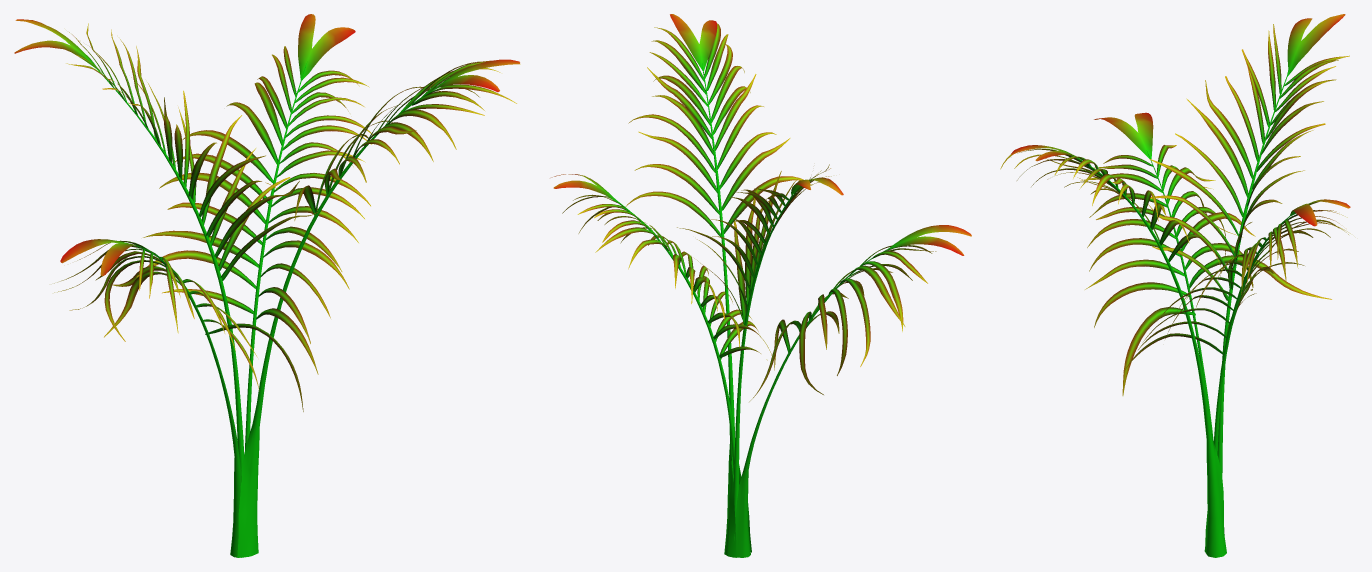
File: Alexandra Palm_LOD0_Var4_ukgkcilia.fbx
3 views of the same model, side by side, from view 1: azimuth 30°, elevation 25°; view 2: azimuth 150°, elevation 25°; view 3: azimuth 270°, elevation 25° (orthographic). The views are drawn at different scales.
Parts seen in each view (by area): view 1: _bffx_Var4_LOD0; view 2: _bffx_Var4_LOD0; view 3: _bffx_Var4_LOD0.
Boxes of the visible parts, left/top/right/bottom form: _bffx_Var4_LOD0: left=14, top=14, right=520, bottom=557; _bffx_Var4_LOD0: left=551, top=14, right=971, bottom=557; _bffx_Var4_LOD0: left=1000, top=14, right=1350, bottom=557.
Size of the model in its own units: 39 by 47.04 by 32.39.
